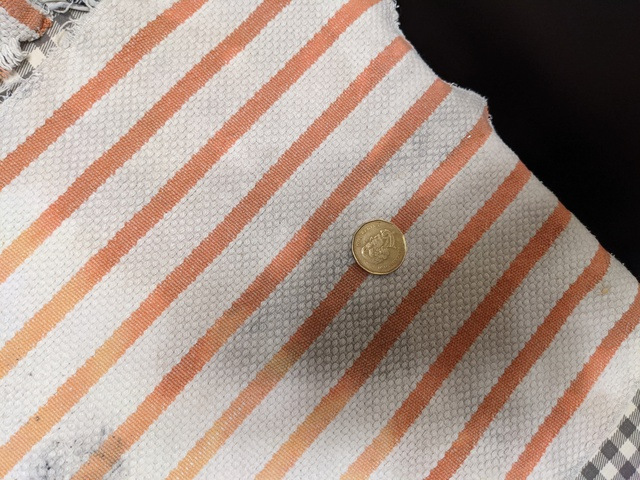loonie: (344, 212, 413, 278)
